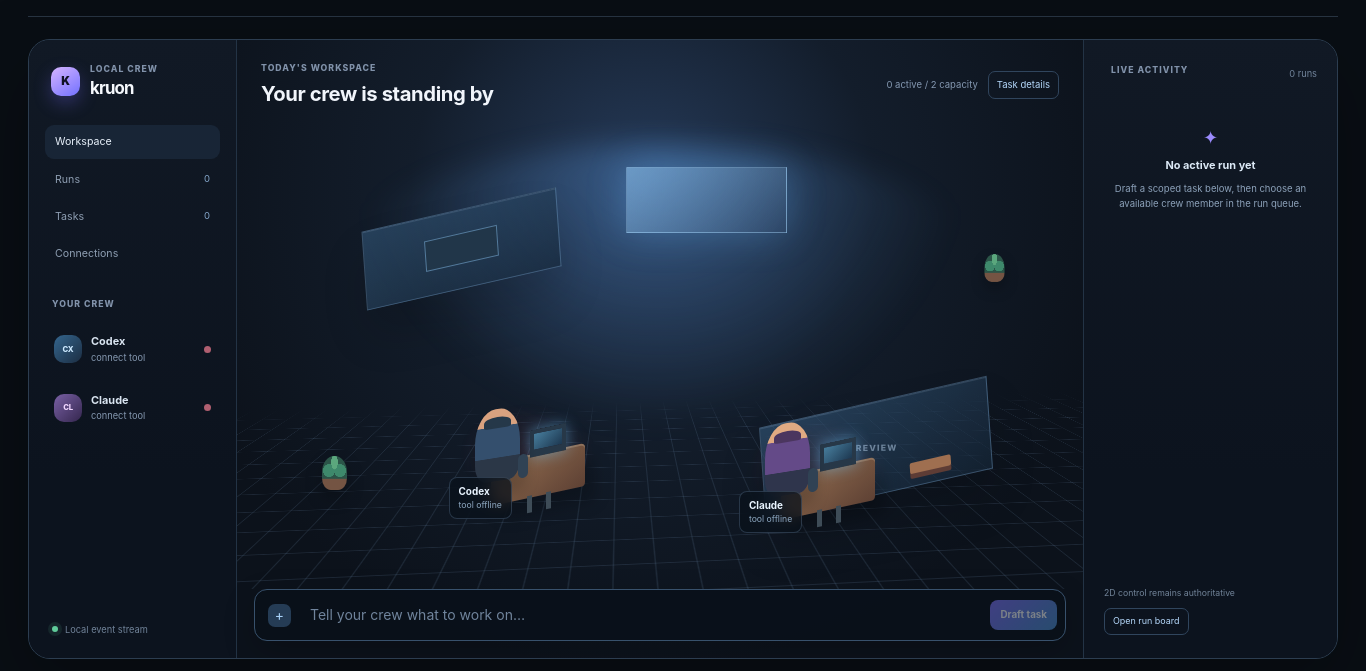
Test case: App › carries a workspace draft into the structured task form
The image size is (1366, 671).
Step 1. Type "Create a softer review corner" into the field named "Draft a task from the workspace" → [641, 615], box x1=301 y1=597 x2=980 y2=633
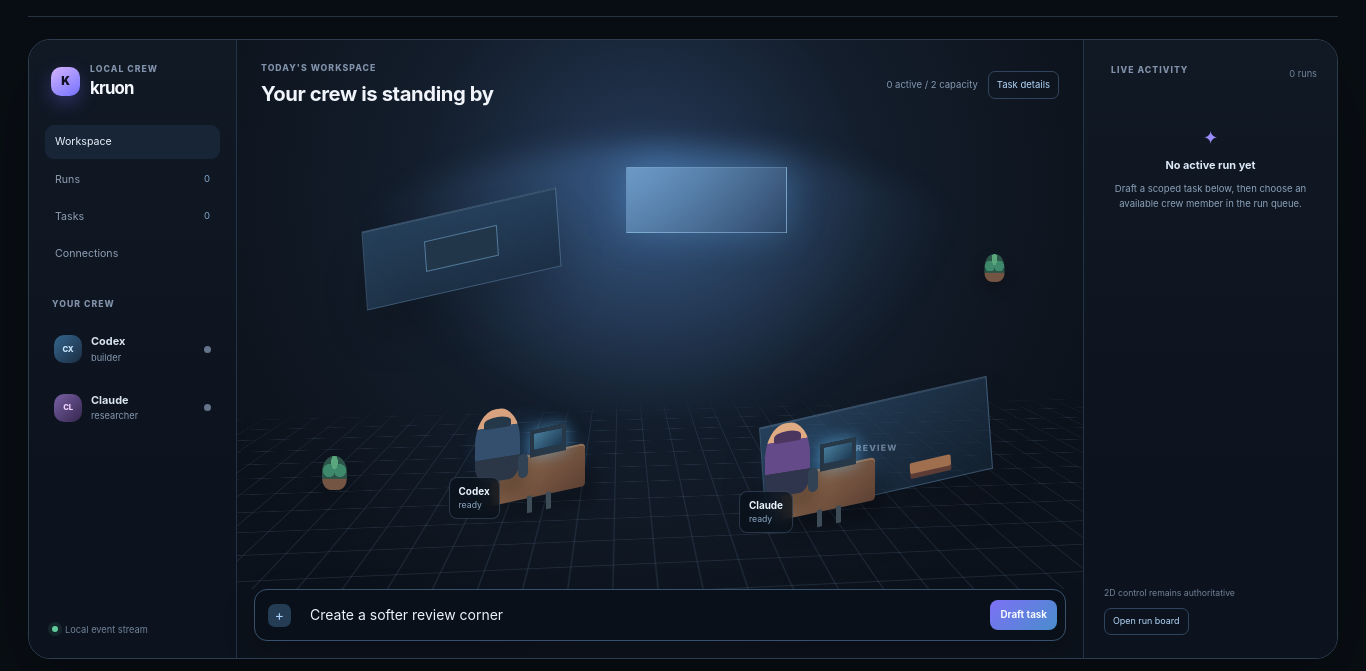
Step 2. Click the button "Draft task" → [1024, 615], box x1=990 y1=600 x2=1057 y2=630
(page scrolled)
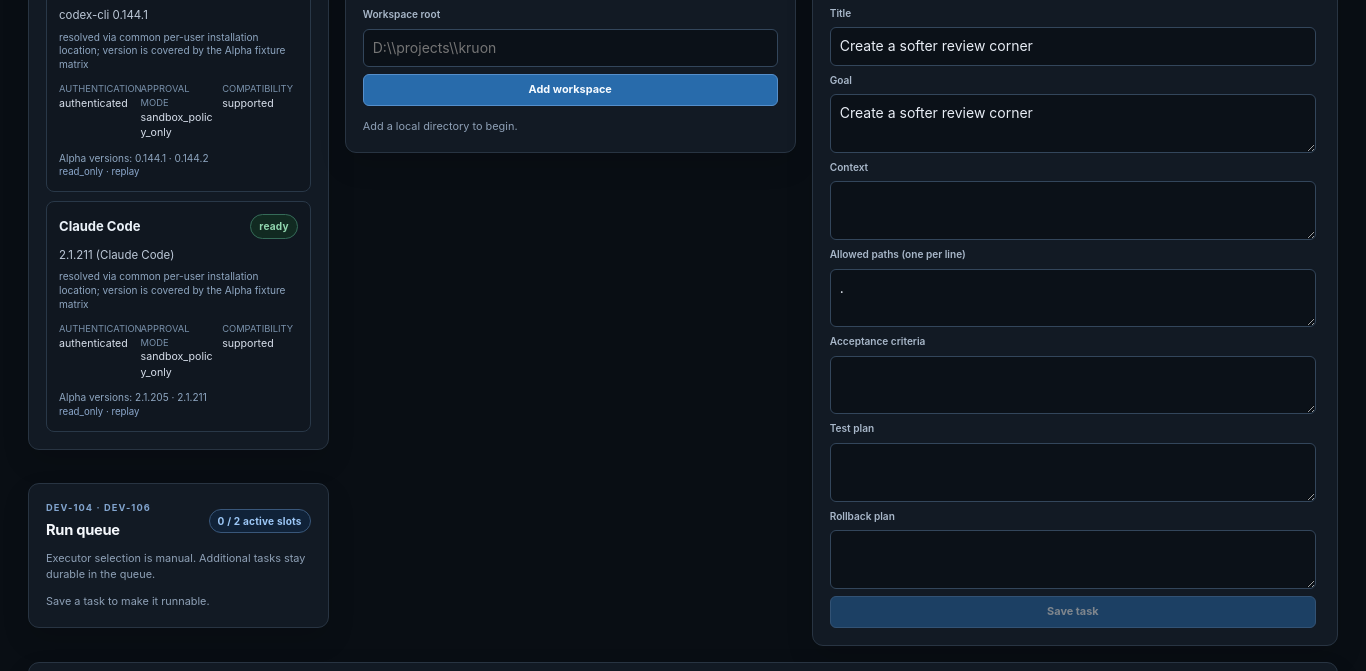
Now the field labelled "Title" holds "Create a softer review corner", box x1=830 y1=27 x2=1316 y2=66
Now the text box labelled "Goal" holds "Create a softer review corner", box x1=830 y1=94 x2=1316 y2=153
